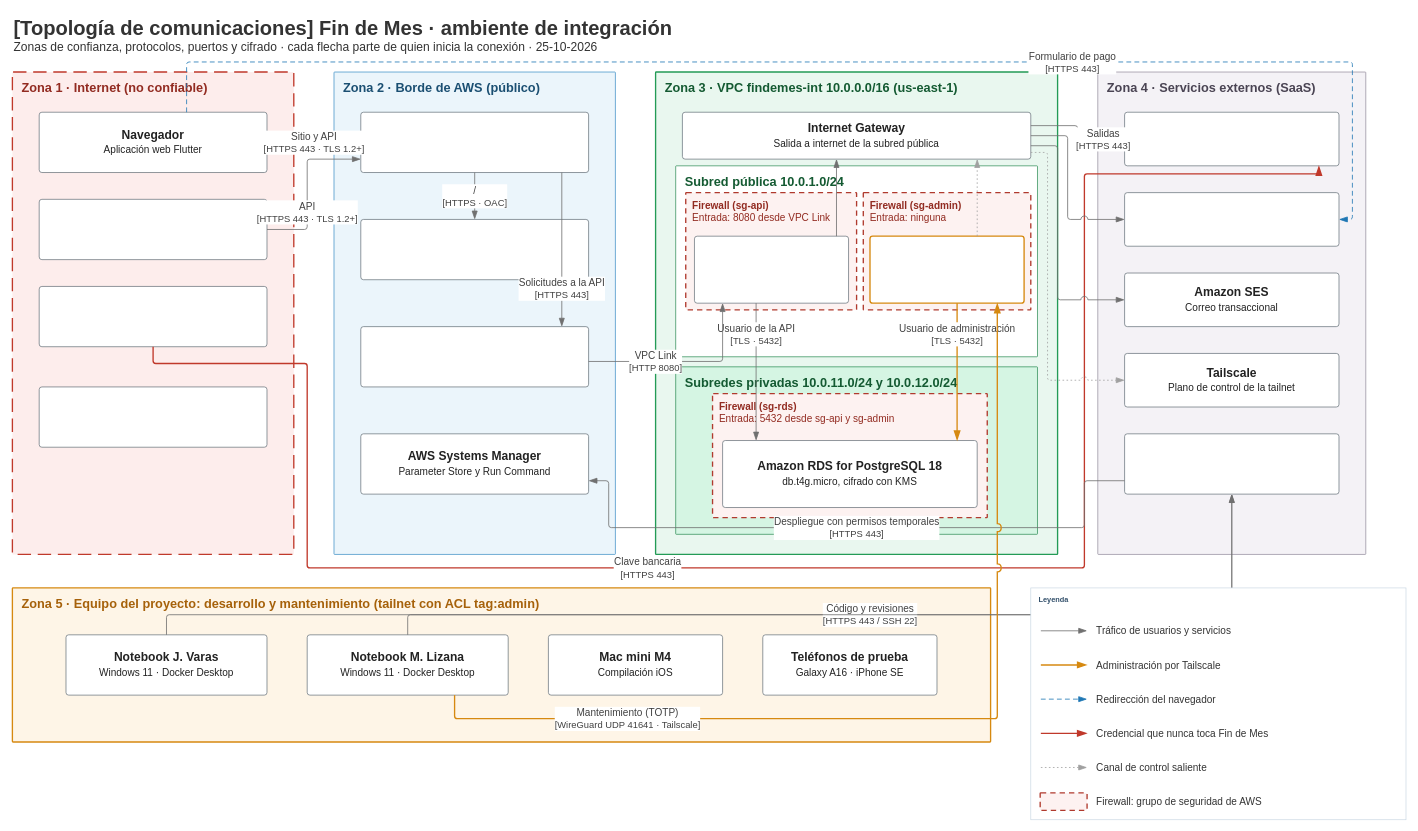
The diagram is 1418 pixels wide and 831 high, and some of its shapes have lost their labels. Here are the shapes that lost their labels. From the top down, the centre of each, then its label:
At point 474,142: "Amazon CloudFront Puntos de presencia globales".
At point 1231,139: "Fintoc API de agregación bancaria".
At point 153,229: "Teléfono Aplicación Android o iOS".
At point 1231,219: "Transbank Webpay Plus Formulario y API de pago".
At point 474,249: "Amazon S3 Bucket privado del sitio".
At point 771,269: "EC2 api (t4g.micro) API pública y migrador en Docker".
At point 946,269: "EC2 admin (t4g.nano) API y panel de administración".
At point 153,316: "Widget de Fintoc En el navegador o WebView".
At point 474,356: "Amazon API Gateway API HTTP regional".
At point 153,416: "Proveedor de internet del usuario Fibra, cable o red móvil".
At point 1231,463: "GitHub y GitHub Actions Repositorio, CI y registro de imágenes".
